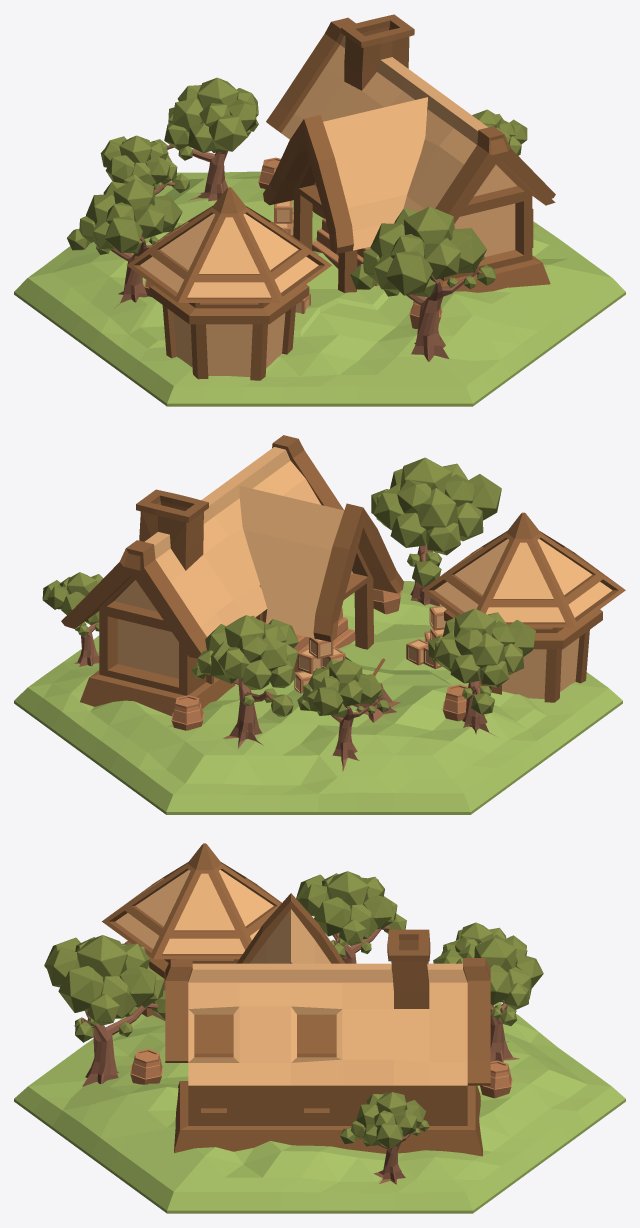
The model's file is workers_hut.glb.
The picture shows the model from 3 angles, top to bottom: view 1: azimuth 30°, elevation 25°; view 2: azimuth 150°, elevation 25°; view 3: azimuth 270°, elevation 25°; orthographic projection.
Parts seen in each view (by area): view 1: workershut; view 2: workershut; view 3: workershut.
Boxes of the visible parts, bbox=[...] form: workershut: bbox=[14, 14, 625, 406]; workershut: bbox=[14, 435, 625, 814]; workershut: bbox=[14, 843, 625, 1213].
Bounding box in the file's own units: 1.78 × 0.7529 × 2.
2 materials, 2 textured.
